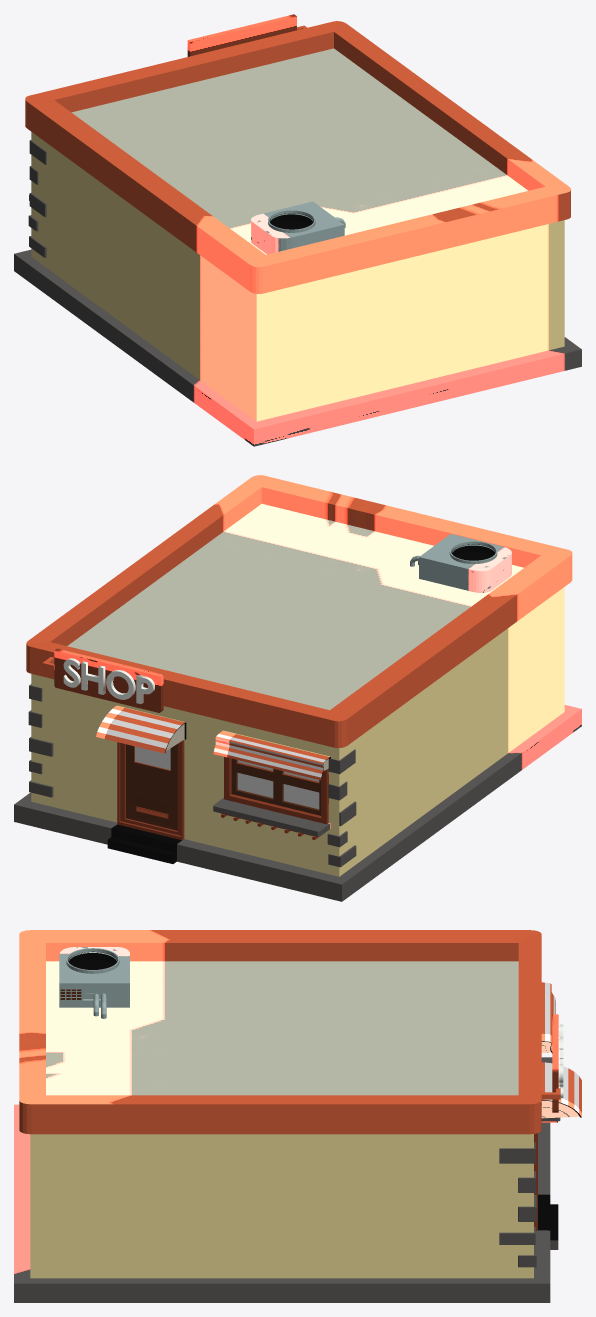
File: shop-general-brick_night.glb
The picture shows the model from 3 angles, top to bottom: view 1: azimuth 30°, elevation 25°; view 2: azimuth 150°, elevation 25°; view 3: azimuth 270°, elevation 25°; orthographic projection. The views are drawn at different scales.
Visible parts, largest first — view 1: Cube; view 2: Cube, Text; view 3: Cube.
Part boxes in pixels (<box>): Cube: <box>14,14,581,446</box>; Cube: <box>14,475,581,901</box>; Text: <box>63,658,154,703</box>; Cube: <box>14,930,581,1302</box>.
Size of the model in its own units: 3.89 by 2.1 by 5.23.
Materials: 12 (1 with a texture image).
